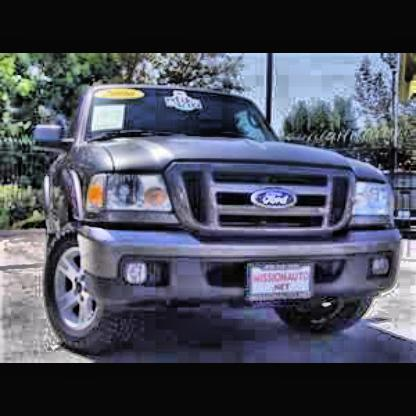Ford Ranger SuperCab 2011: (29, 83, 406, 354)
